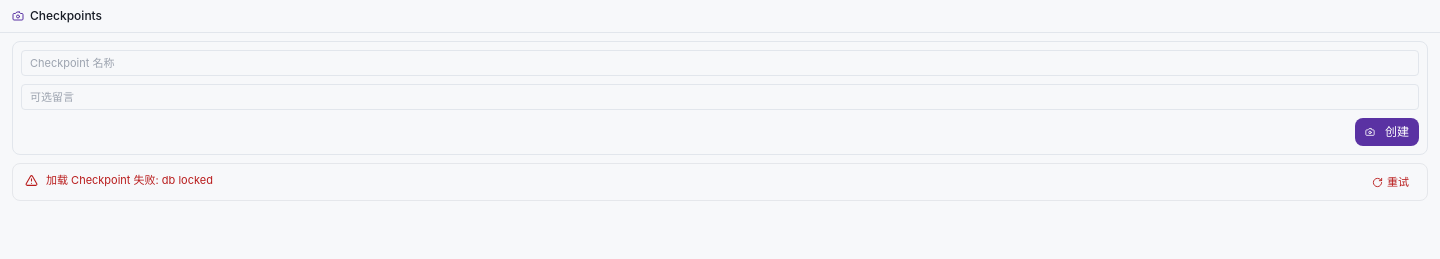
panel load error banners (P1-7) › CheckpointPanel shows a retryable banner when the list fails to load
The width and height of the screenshot is (1440, 259).
Expected: the message with test id "checkpoint-panel-error" shows "db locked", [46, 173, 213, 187]
Expected: the text "暂无 Checkpoint" is not shown
What coordinates should you click on to do the following:
click the button with test id "checkpoint-panel-error-retry"
I would click on:
 (1390, 182)
Its box is [1366, 172, 1415, 192].
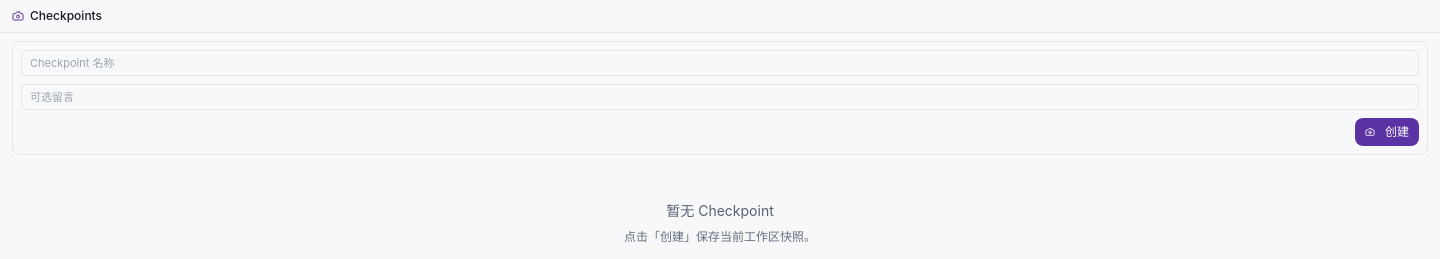
Expected: the message with test id "checkpoint-panel-error" is gone
